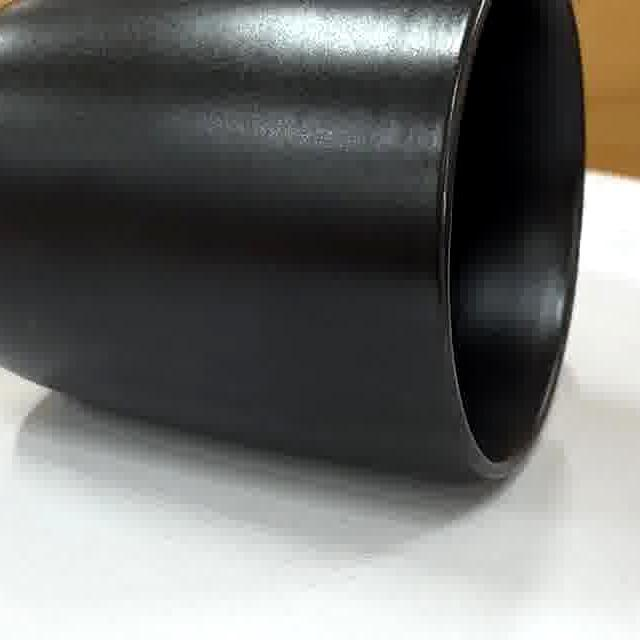cup: (0, 0, 585, 487)
